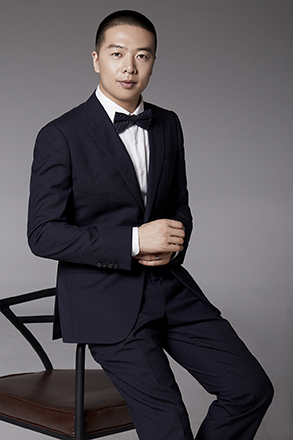unmask: (102, 25, 157, 93)
